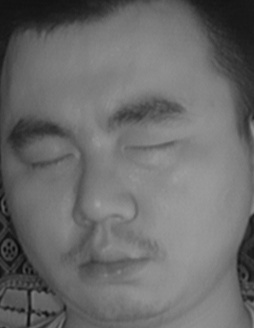blink: (126, 128, 178, 164), (25, 144, 75, 177)
mouth: (68, 233, 156, 290)
